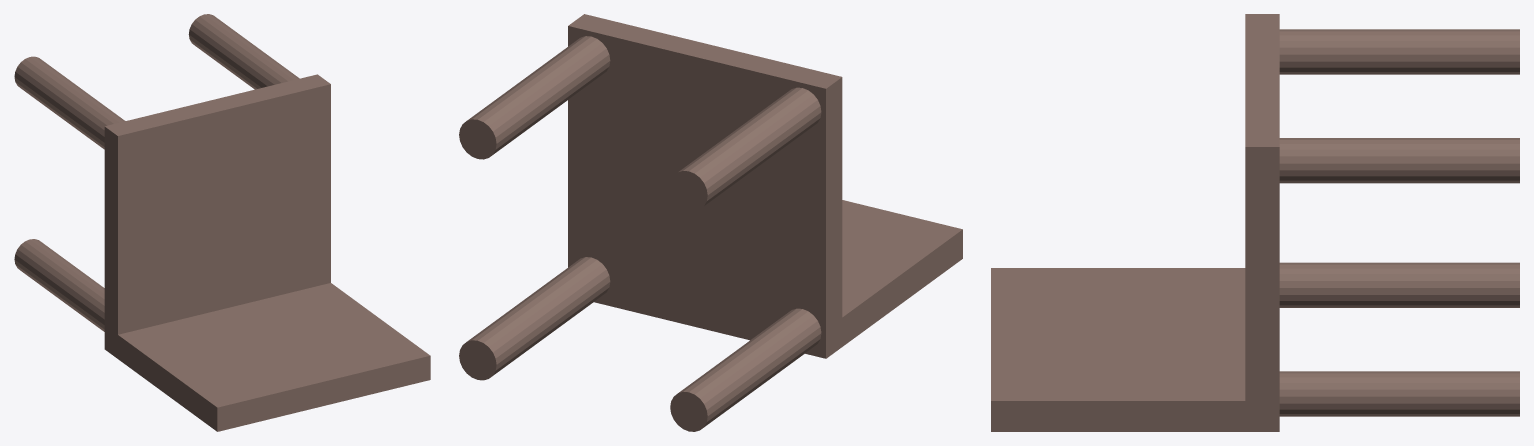
The model's file is chair_retrieval2.glb.
3 views of the same model, side by side, from view 1: azimuth 30°, elevation 25°; view 2: azimuth 150°, elevation 25°; view 3: azimuth 270°, elevation 25° (orthographic). The views are drawn at different scales.
Visible parts, largest first — view 1: world; view 2: world; view 3: world.
Part boxes in pixels (x1,y1,x2,y2): world: [14, 14, 430, 431]; world: [459, 14, 962, 431]; world: [991, 14, 1519, 431].
Bounding box in the file's own units: 0.7336 × 0.7336 × 1.23.
